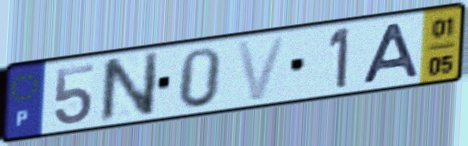0: (176, 46, 224, 110)
1: (325, 25, 352, 92)
5: (53, 61, 98, 126)
A: (358, 20, 422, 87)
N: (98, 48, 162, 126)
V: (233, 33, 290, 104)
